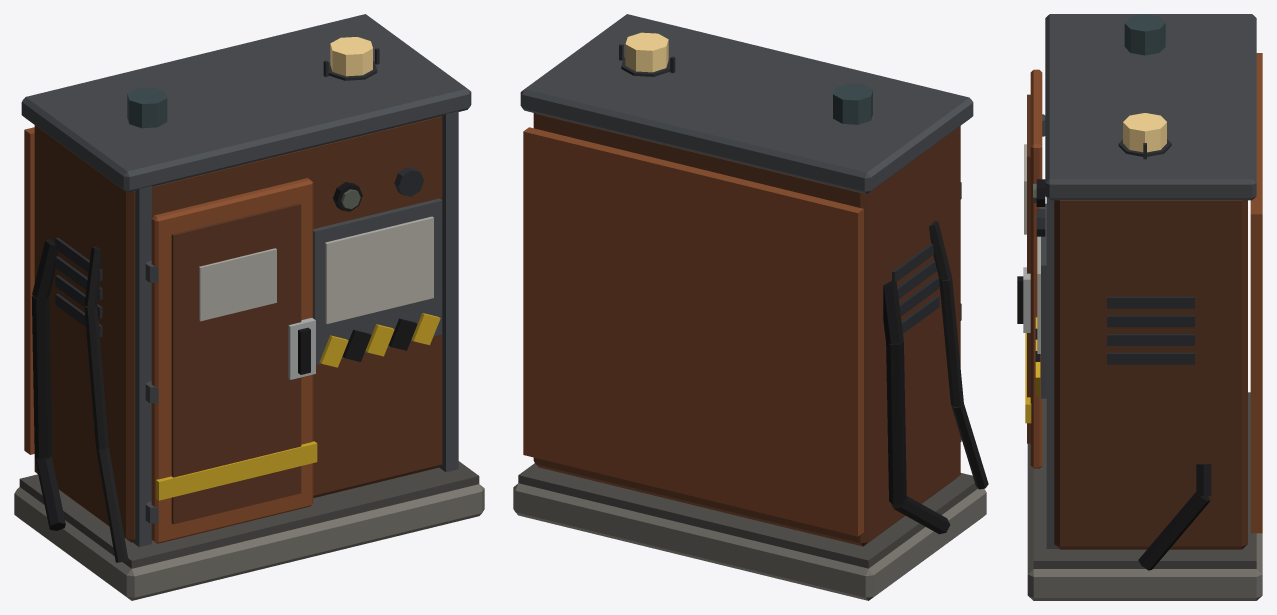
The model's file is lm_relay_cabinet.fbx.
3 views of the same model, side by side, from view 1: azimuth 30°, elevation 25°; view 2: azimuth 150°, elevation 25°; view 3: azimuth 270°, elevation 25° (orthographic).
Visible parts, largest first — view 1: lm_relay_cabinet, Door, Lamp; view 2: lm_relay_cabinet, Lamp; view 3: lm_relay_cabinet, Door, Lamp.
Part boxes in pixels (left/top/right/bottom): lm_relay_cabinet: left=14, top=14, right=484, bottom=600; Door: left=145, top=178, right=317, bottom=543; Lamp: left=330, top=37, right=372, bottom=76; lm_relay_cabinet: left=513, top=14, right=988, bottom=600; Lamp: left=625, top=32, right=668, bottom=72; lm_relay_cabinet: left=1027, top=14, right=1262, bottom=600; Door: left=1017, top=69, right=1045, bottom=468; Lamp: left=1123, top=113, right=1166, bottom=152.
Bounding box in the file's own units: 1.5 × 1.67 × 0.835.
